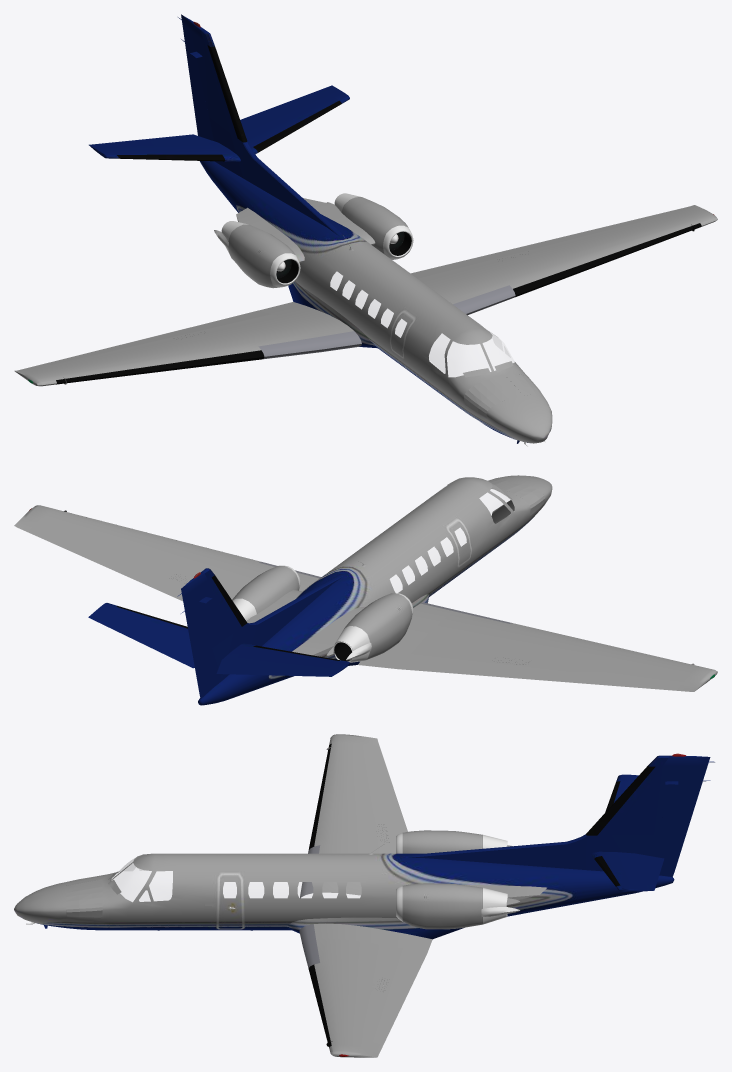
The picture shows the model from 3 angles, top to bottom: view 1: azimuth 30°, elevation 25°; view 2: azimuth 150°, elevation 25°; view 3: azimuth 270°, elevation 25°; orthographic projection. The views are drawn at different scales.
Visible parts, largest first — view 1: Fuselage, Fin, LHwing.002, RHwing.002, LHwing.003, RHwing.003, Hstab, REngine, Glass, LEngine, Pylons, Rudder (+13 smaller); view 2: Fuselage, RHwing.002, LHwing.003, RHwing.003, Fin, LHwing.002, Hstab, REngine, Rudder, RHflap, RHwing.001, LEngine (+10 smaller); view 3: Fuselage, Fin, RHwing.003, LHwing.002, LEngine, LHwing.003, Rudder, RHwing.002, LHwing.001, REngine, Glass, Cabin.door (+9 smaller).
Boxes of the visible parts, <box> form: Fuselage: <box>200,161,552,443</box>; Fin: <box>190,28,343,236</box>; LHwing.002: <box>418,246,577,303</box>; RHwing.002: <box>155,314,317,360</box>; LHwing.003: <box>544,205,717,265</box>; RHwing.003: <box>14,341,188,386</box>; Hstab: <box>106,94,338,161</box>; REngine: <box>228,224,295,288</box>; Glass: <box>429,333,513,376</box>; LEngine: <box>341,197,408,253</box>; Pylons: <box>236,198,375,262</box>; Rudder: <box>178,14,218,162</box>; Fuselage: <box>198,475,552,705</box>; RHwing.002: <box>410,611,577,669</box>; LHwing.003: <box>14,505,188,574</box>; RHwing.003: <box>544,638,717,691</box>; Fin: <box>193,568,343,698</box>; LHwing.002: <box>155,543,317,599</box>; Hstab: <box>106,606,338,669</box>; REngine: <box>344,593,412,659</box>; Rudder: <box>177,572,221,694</box>; RHflap: <box>398,654,543,679</box>; RHwing.001: <box>358,603,454,668</box>; LEngine: <box>232,566,299,613</box>; Fuselage: <box>14,844,674,939</box>; Fin: <box>400,755,688,876</box>; RHwing.003: <box>320,734,386,815</box>; LHwing.002: <box>314,938,402,998</box>; LEngine: <box>402,883,482,929</box>; LHwing.003: <box>320,991,386,1057</box>; Rudder: <box>644,753,714,872</box>; RHwing.002: <box>314,809,395,853</box>; LHwing.001: <box>314,923,432,953</box>; REngine: <box>402,830,482,853</box>; Glass: <box>113,859,172,901</box>; Cabin.door: <box>205,872,244,929</box>.
Size of the model in its own units: 15.62 by 4.06 by 14.48.
7 materials, 5 textured.
